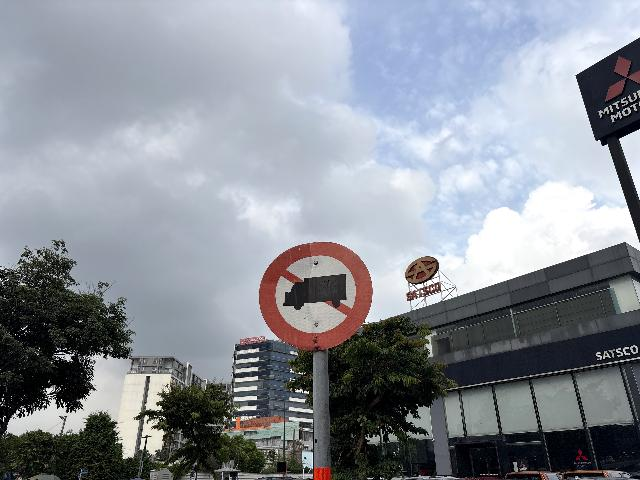cam-xe-tai: (259, 241, 373, 352)
